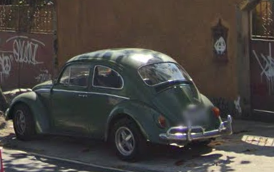car: (4, 48, 233, 160)
